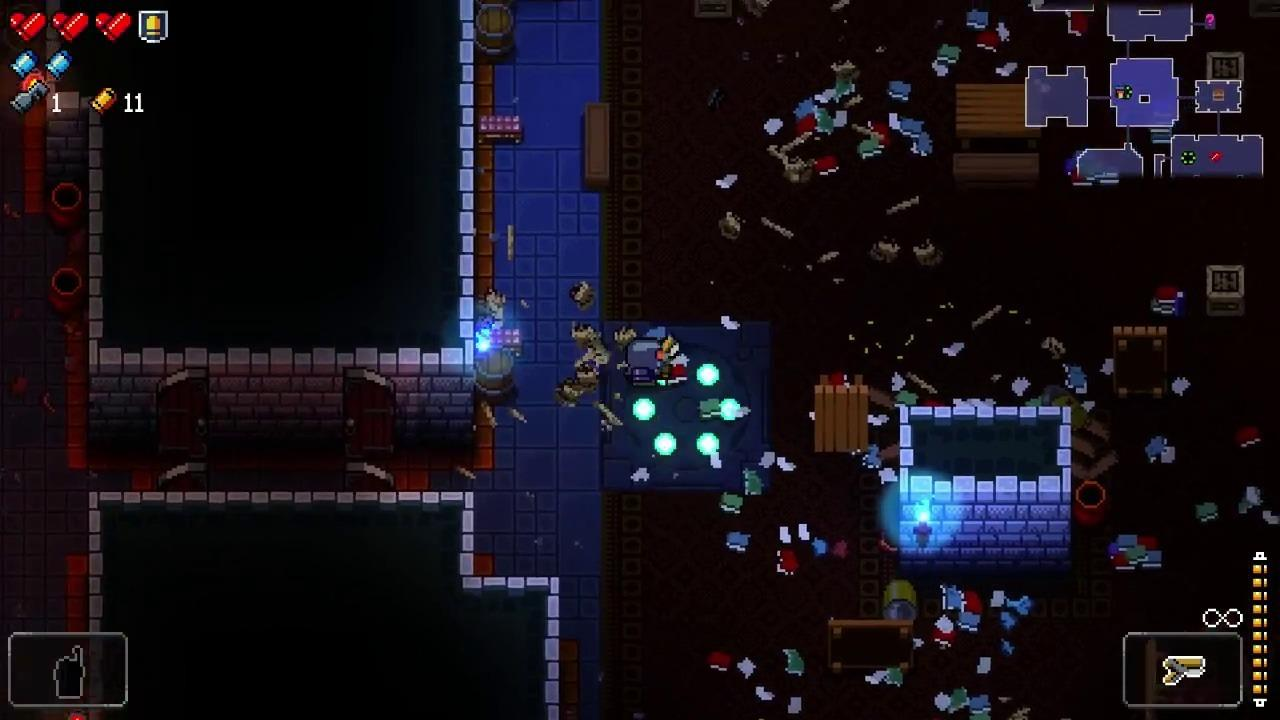player: (627, 340, 666, 386)
table: (957, 84, 1042, 151), (827, 620, 914, 674), (816, 374, 868, 453), (1112, 327, 1167, 400)
teleporter: (601, 322, 771, 494)
unlocked_door: (344, 367, 394, 492), (159, 368, 208, 490)
wall: (900, 406, 1071, 578)
